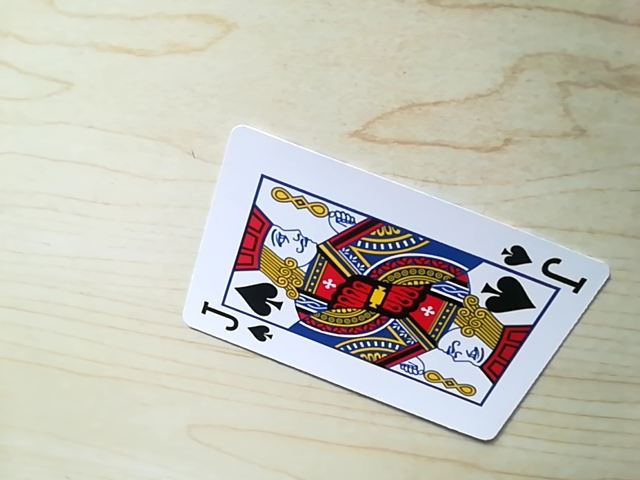ht j: (493, 238, 586, 282), (200, 311, 275, 347)
